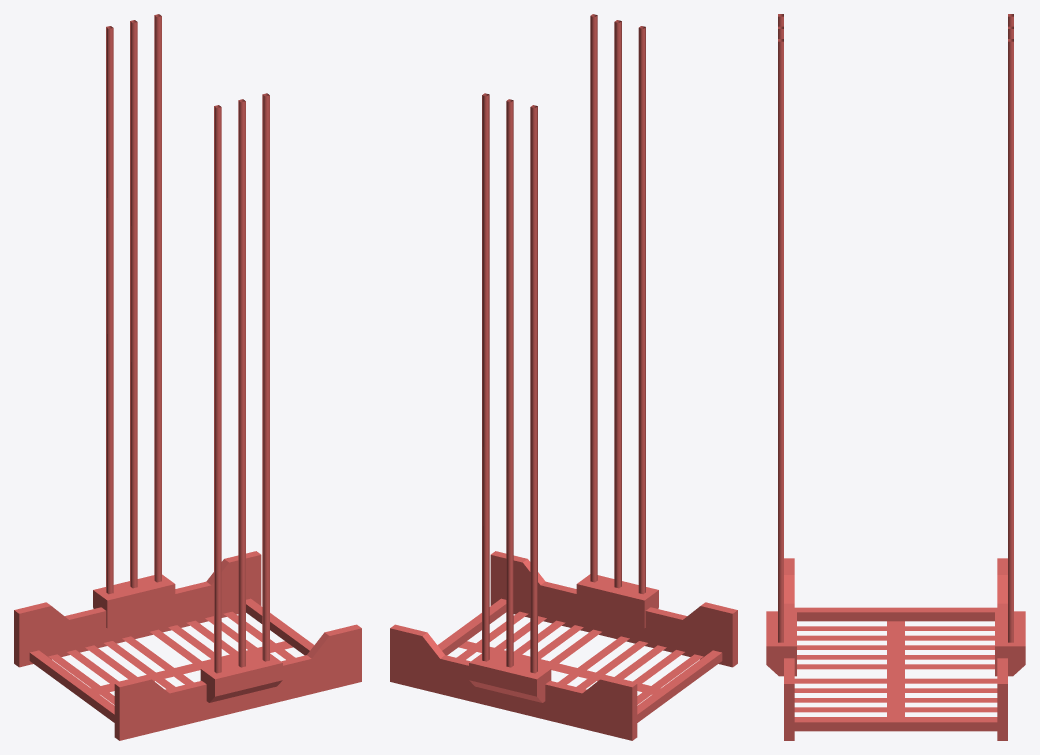
File: SM_PROP_GRID_VENT_01.fbx
3 renders of one model, left to right at view 1: azimuth 30°, elevation 25°; view 2: azimuth 150°, elevation 25°; view 3: azimuth 270°, elevation 25°, orthographic. The views are drawn at different scales.
Visible parts, largest first — view 1: SM_PROP_GRID_VENT_01; view 2: SM_PROP_GRID_VENT_01; view 3: SM_PROP_GRID_VENT_01.
Boxes of the visible parts, box(x1,y1,x2,y2) form: SM_PROP_GRID_VENT_01: box(14, 14, 361, 740); SM_PROP_GRID_VENT_01: box(390, 14, 737, 740); SM_PROP_GRID_VENT_01: box(766, 14, 1025, 740).
Size of the model in its own units: 1.5 by 3.62 by 1.31.
